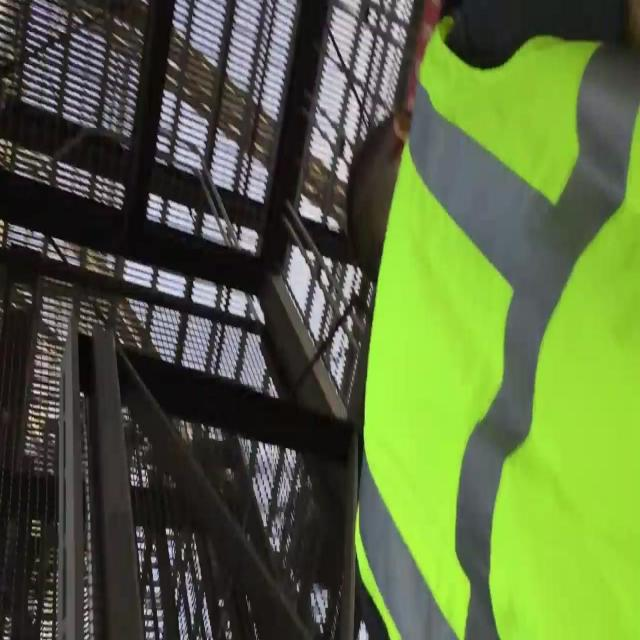Reflective-Jacket: (341, 23, 640, 640)
